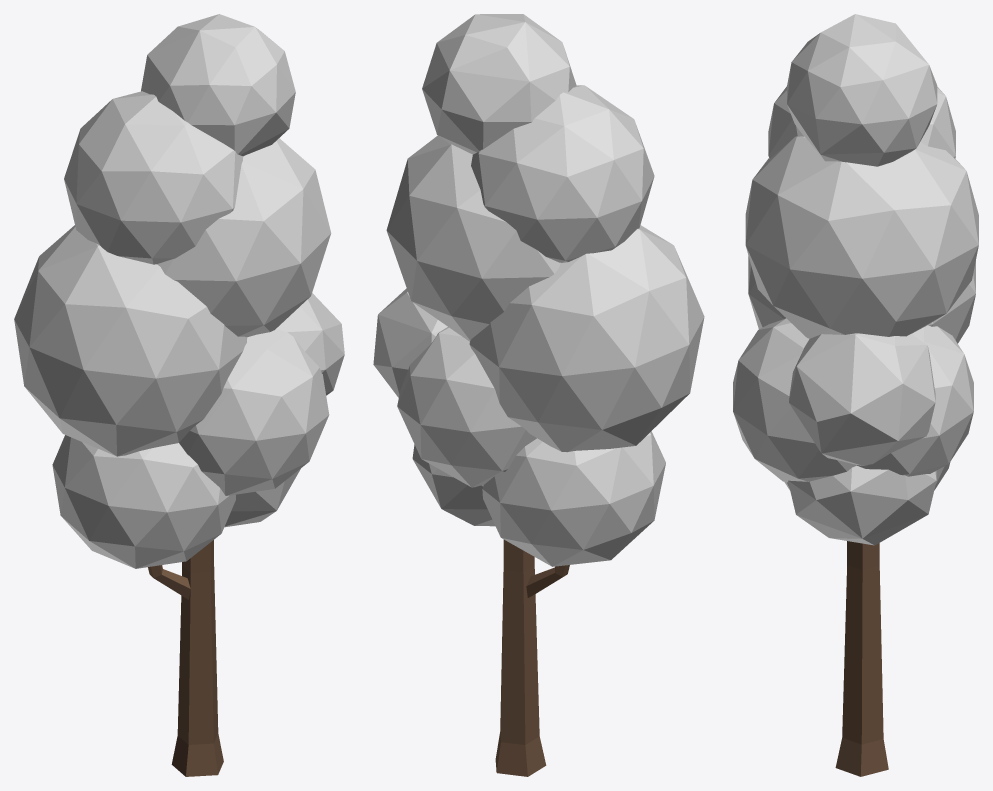
Rendered from tree18.fbx.
The picture shows the model from 3 angles, left to right: view 1: azimuth 30°, elevation 25°; view 2: azimuth 150°, elevation 25°; view 3: azimuth 270°, elevation 25°; orthographic projection.
Visible parts, largest first — view 1: tree18; view 2: tree18; view 3: tree18.
Boxes of the visible parts, <box> form: tree18: <box>14,14,344,776</box>; tree18: <box>373,14,704,776</box>; tree18: <box>733,14,978,776</box>.
Bounding box in the file's own units: 3.23 × 2.21 × 7.45.
